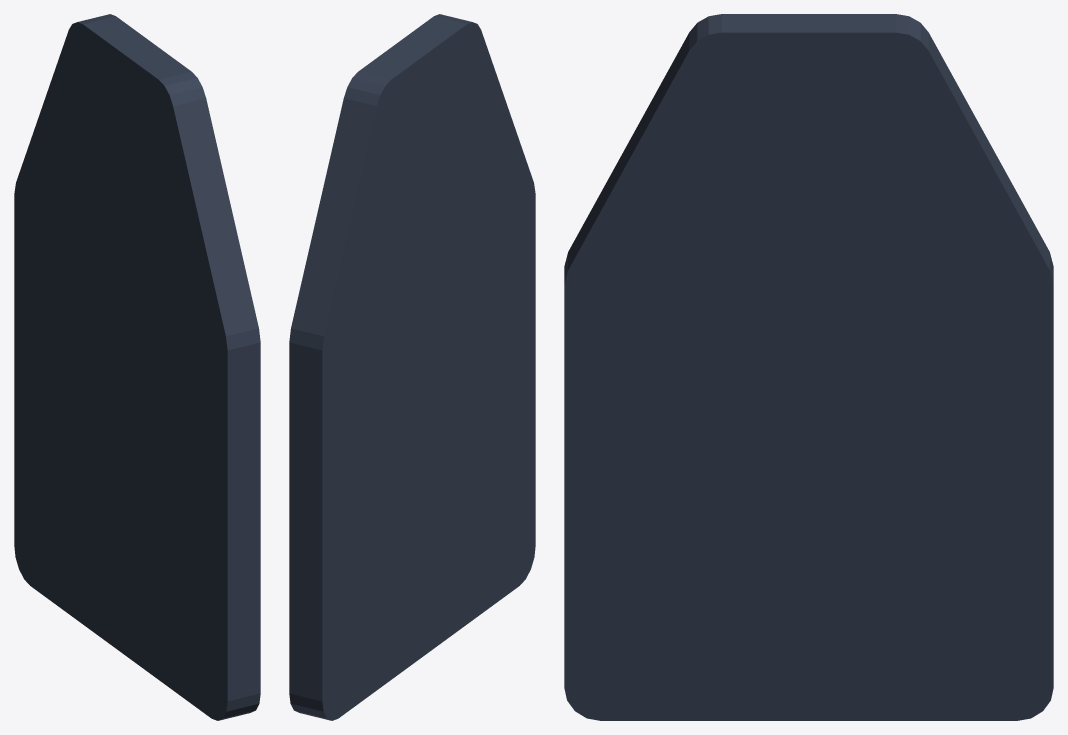
The model's file is plant_camera_mount.dae.
3 renders of one model, left to right at view 1: azimuth 30°, elevation 25°; view 2: azimuth 150°, elevation 25°; view 3: azimuth 270°, elevation 25°, orthographic. The views are drawn at different scales.
Parts seen in each view (by area): view 1: Plant_Cam_Mount; view 2: Plant_Cam_Mount; view 3: Plant_Cam_Mount.
Boxes of the visible parts, <box> form: Plant_Cam_Mount: <box>14,14,260,720</box>; Plant_Cam_Mount: <box>289,14,535,720</box>; Plant_Cam_Mount: <box>564,14,1053,720</box>.
Bounding box in the file's own units: 0.006 × 0.067 × 0.104.
